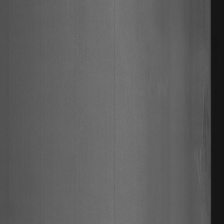silk_spot: (195, 66, 210, 211)
